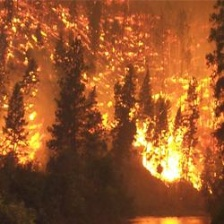fire: (134, 121, 202, 186), (7, 3, 84, 54), (21, 109, 45, 166)
